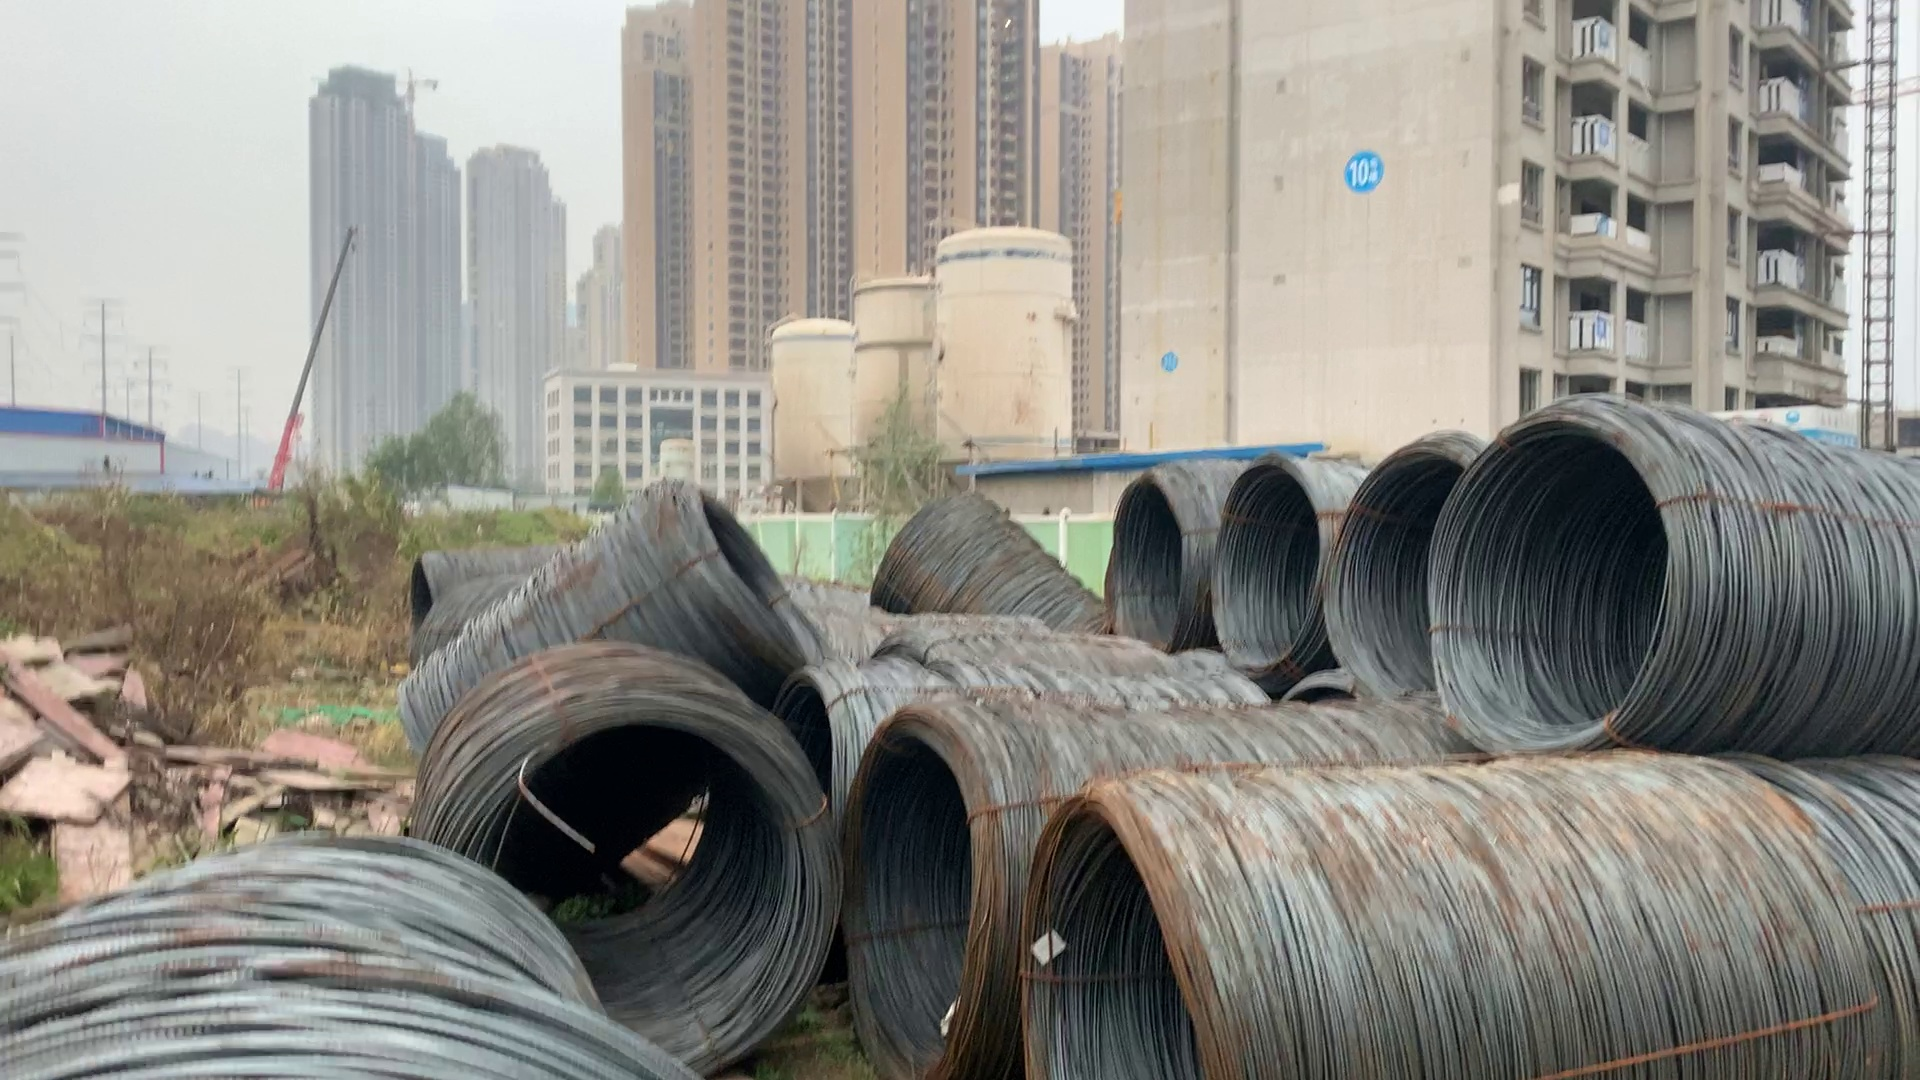coil: (438, 702, 832, 1063), (1410, 407, 1668, 749), (824, 702, 993, 1073), (1007, 789, 1212, 1080), (1335, 446, 1465, 704), (684, 483, 829, 669), (1207, 463, 1332, 676), (1098, 471, 1196, 663), (402, 556, 446, 629)
